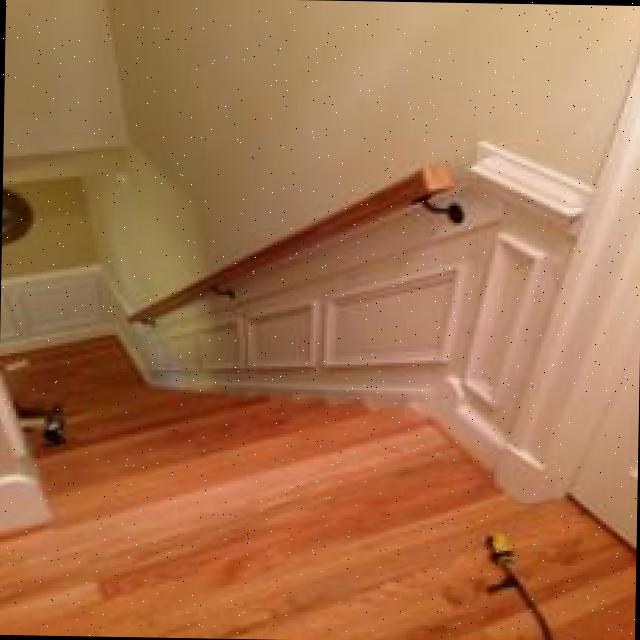stairs: (0, 298, 612, 602)
